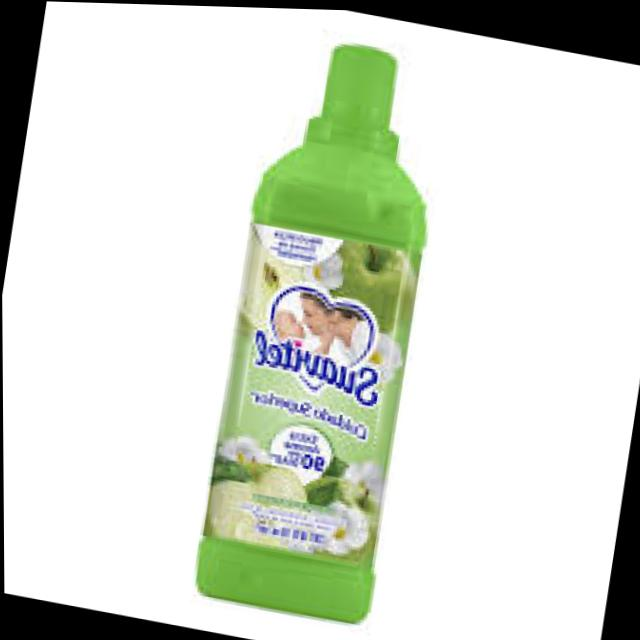Botella: (189, 9, 485, 614)
